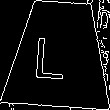L_N: (40, 28, 77, 81)
